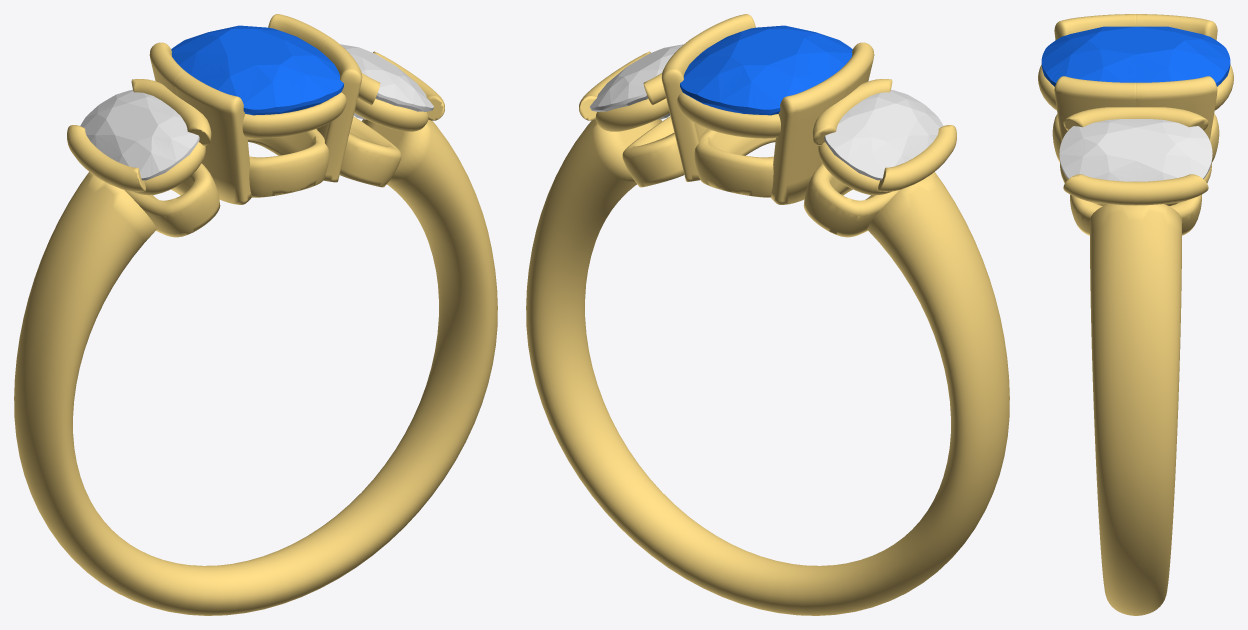
Rendered from bluesapphire-cushion-yellowgold-halfmoonbezel-taperedband-3stone.glb.
3 views of the same model, side by side, from view 1: azimuth 30°, elevation 25°; view 2: azimuth 150°, elevation 25°; view 3: azimuth 270°, elevation 25° (orthographic).
Parts seen in each view (by area): view 1: metal.003, stone, side.001, side; view 2: metal.003, stone, side.001, side; view 3: metal.003, stone, side.
Boxes of the visible parts, x1=… form: metal.003: x1=14, y1=14, x2=497, y2=615; stone: x1=171, y1=25, x2=343, y2=115; side.001: x1=80, y1=89, x2=199, y2=180; side: x1=340, y1=44, x2=433, y2=119; metal.003: x1=526, y1=14, x2=1009, y2=615; stone: x1=680, y1=25, x2=852, y2=115; side.001: x1=824, y1=89, x2=943, y2=180; side: x1=590, y1=44, x2=683, y2=119; metal.003: x1=1038, y1=14, x2=1233, y2=615; stone: x1=1041, y1=26, x2=1230, y2=86; side: x1=1059, y1=119, x2=1212, y2=181.
Bounding box in the file's own units: 20.09 × 23.03 × 7.42.
